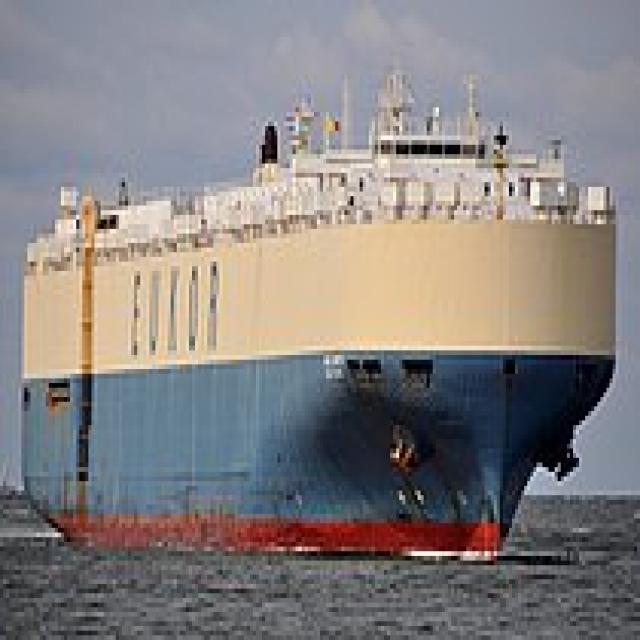Carrier: (15, 51, 619, 556)
